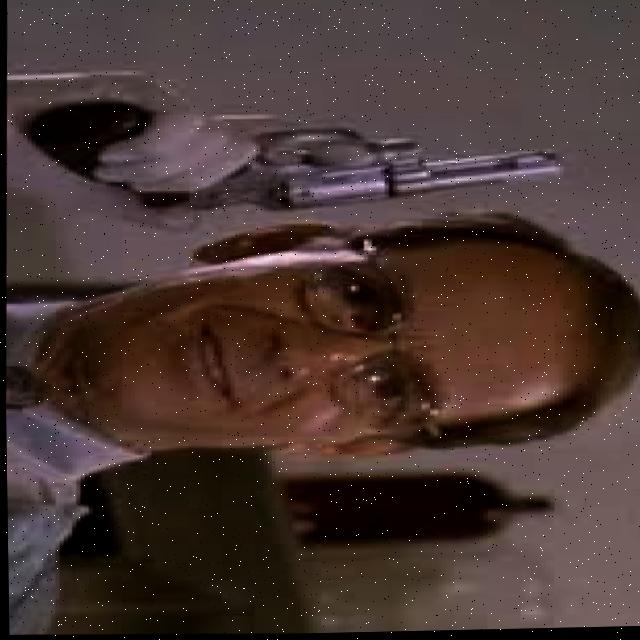pistol: (133, 119, 573, 222)
